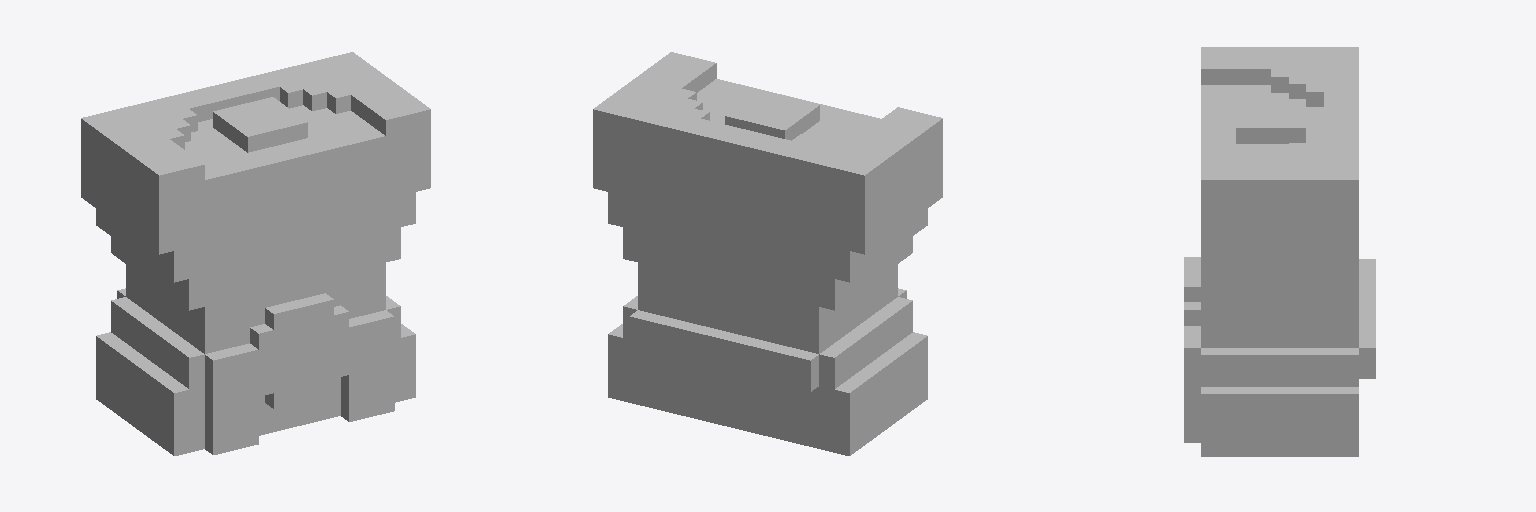
Rendered from dwarftorso.obj.
3 renders of one model, left to right at view 1: azimuth 30°, elevation 25°; view 2: azimuth 150°, elevation 25°; view 3: azimuth 270°, elevation 25°, orthographic.
Parts seen in each view (by area): view 1: Dwarf; view 2: Dwarf; view 3: Dwarf.
Boxes of the visible parts, box(x1,y1,x2,y2) form: Dwarf: box(81, 52, 430, 455); Dwarf: box(593, 52, 942, 455); Dwarf: box(1184, 47, 1375, 456).
Bounding box in the file's own units: 18 × 18 × 11.